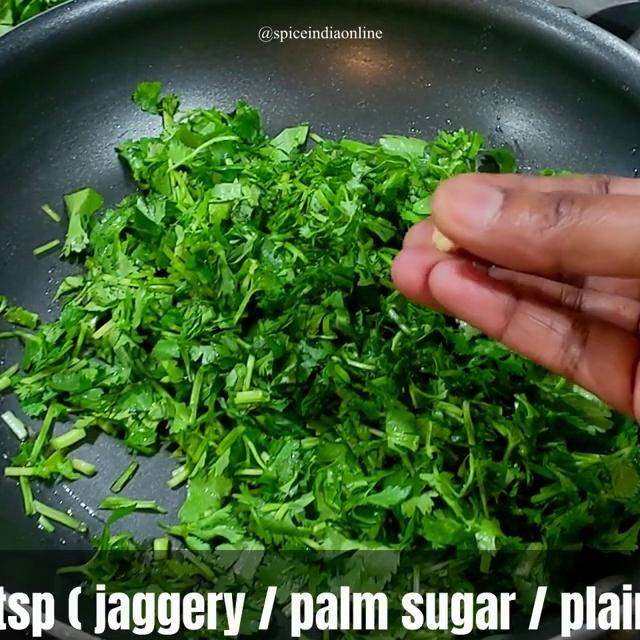cilantro: (71, 163, 397, 521)
